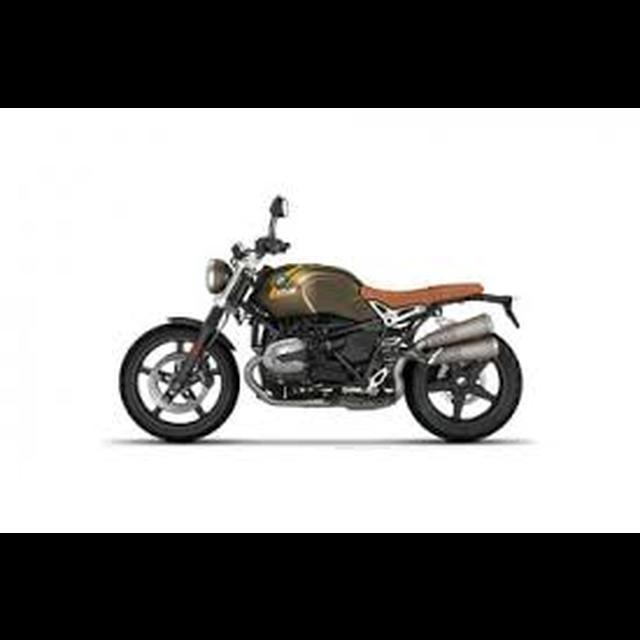motorcycle: (119, 189, 526, 449)
